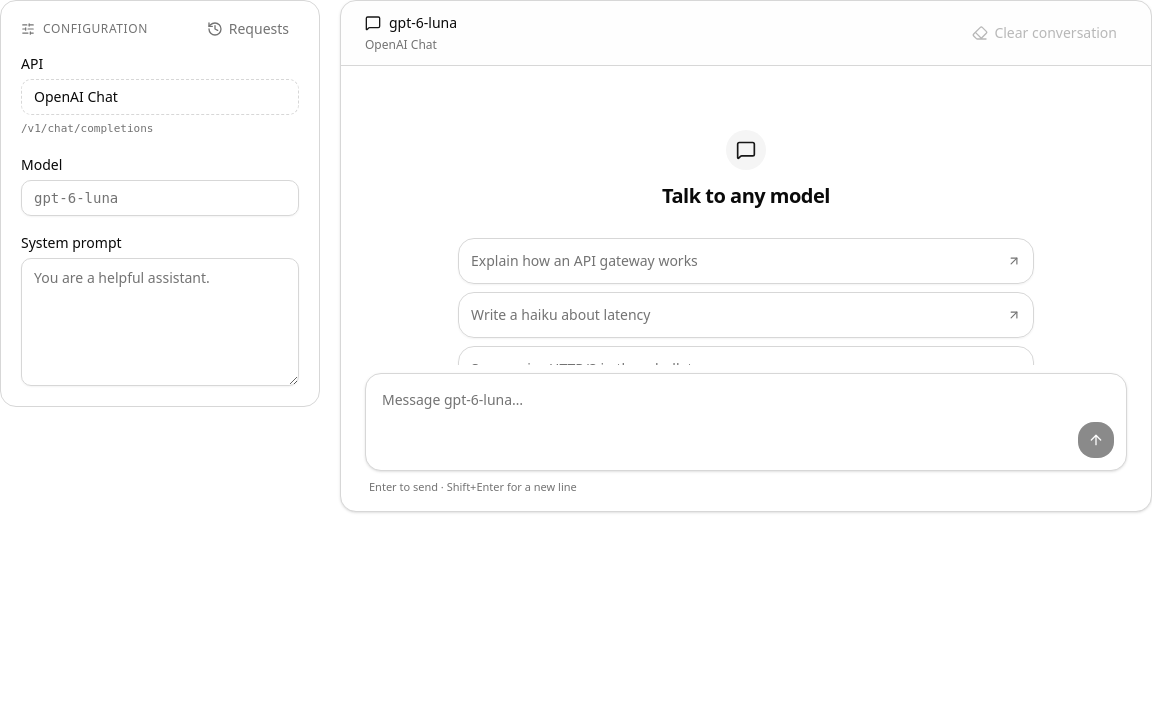
Test: ChatTab › streams a reply into the conversation with its usage
In the text box labelled "Message": (746, 422) [366,374,1126,470], type "Hi"
Then press Enter
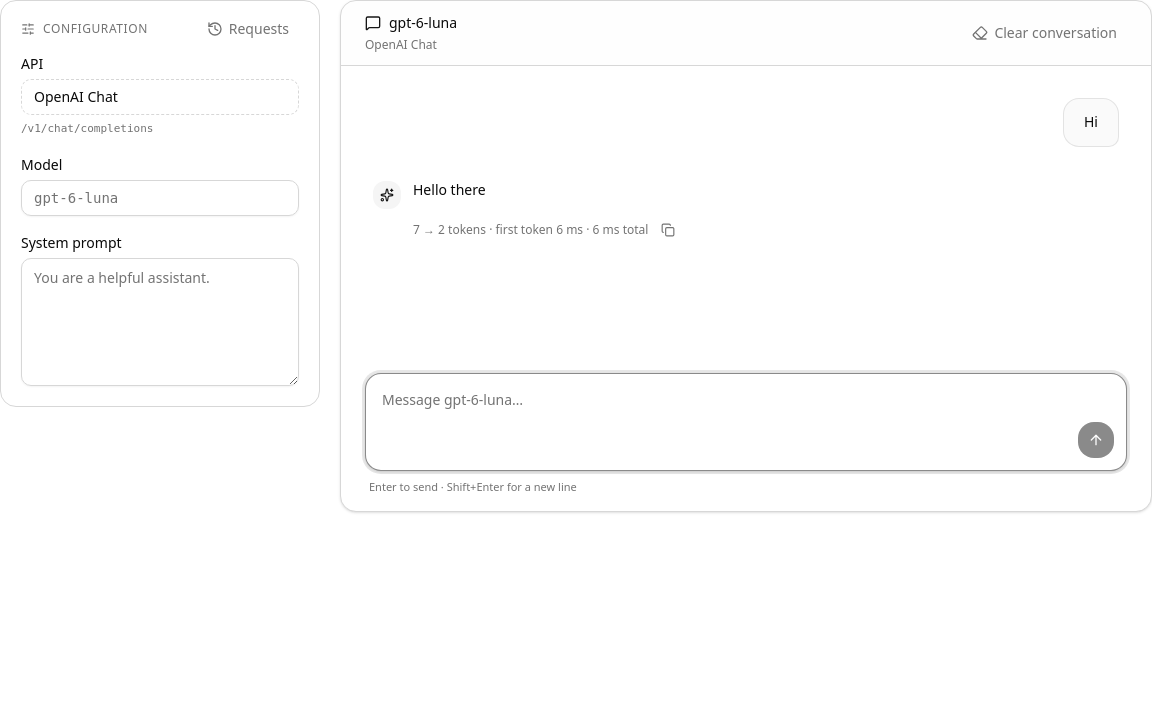
Expected: the text "Hello there" is shown, [413,180,486,199]
Expected: the text "7 → 2 tokens · first token 6 ms · 6 ms total" is shown, [413,222,648,238]
Expected: the text "Hi" is shown, [1063,98,1119,147]
